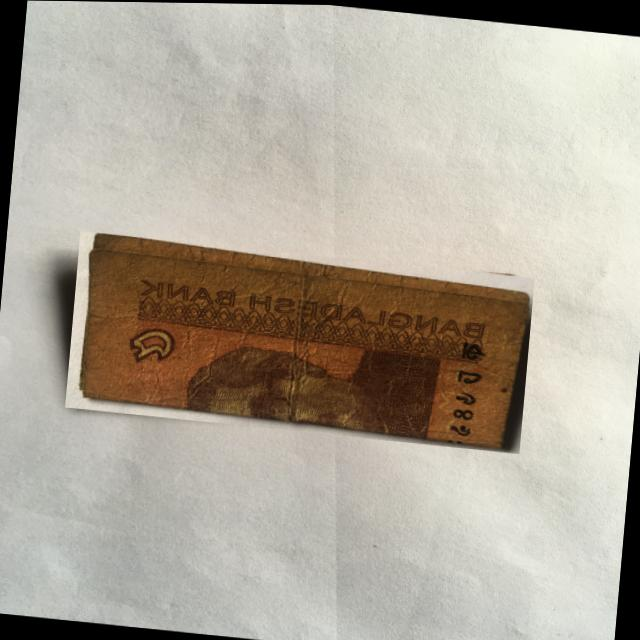Taka: (64, 231, 534, 452)
